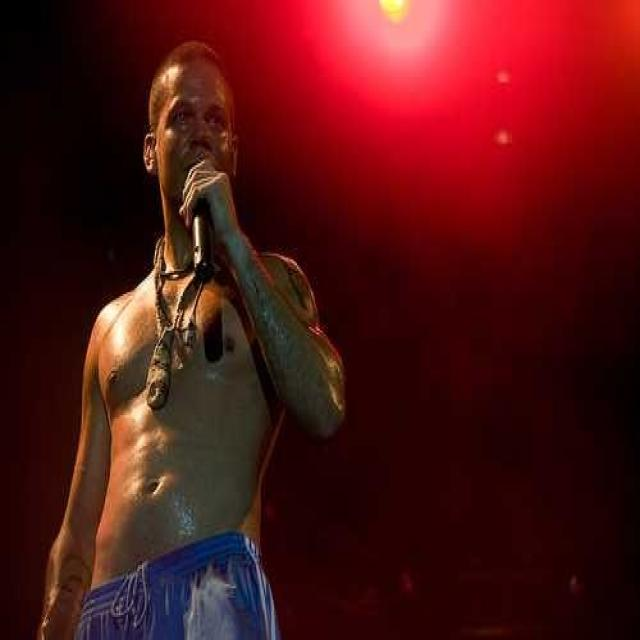microphone: (186, 146, 216, 282)
